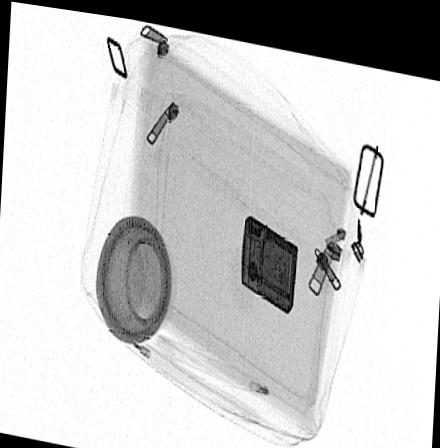Lighter: (241, 205, 298, 305)
